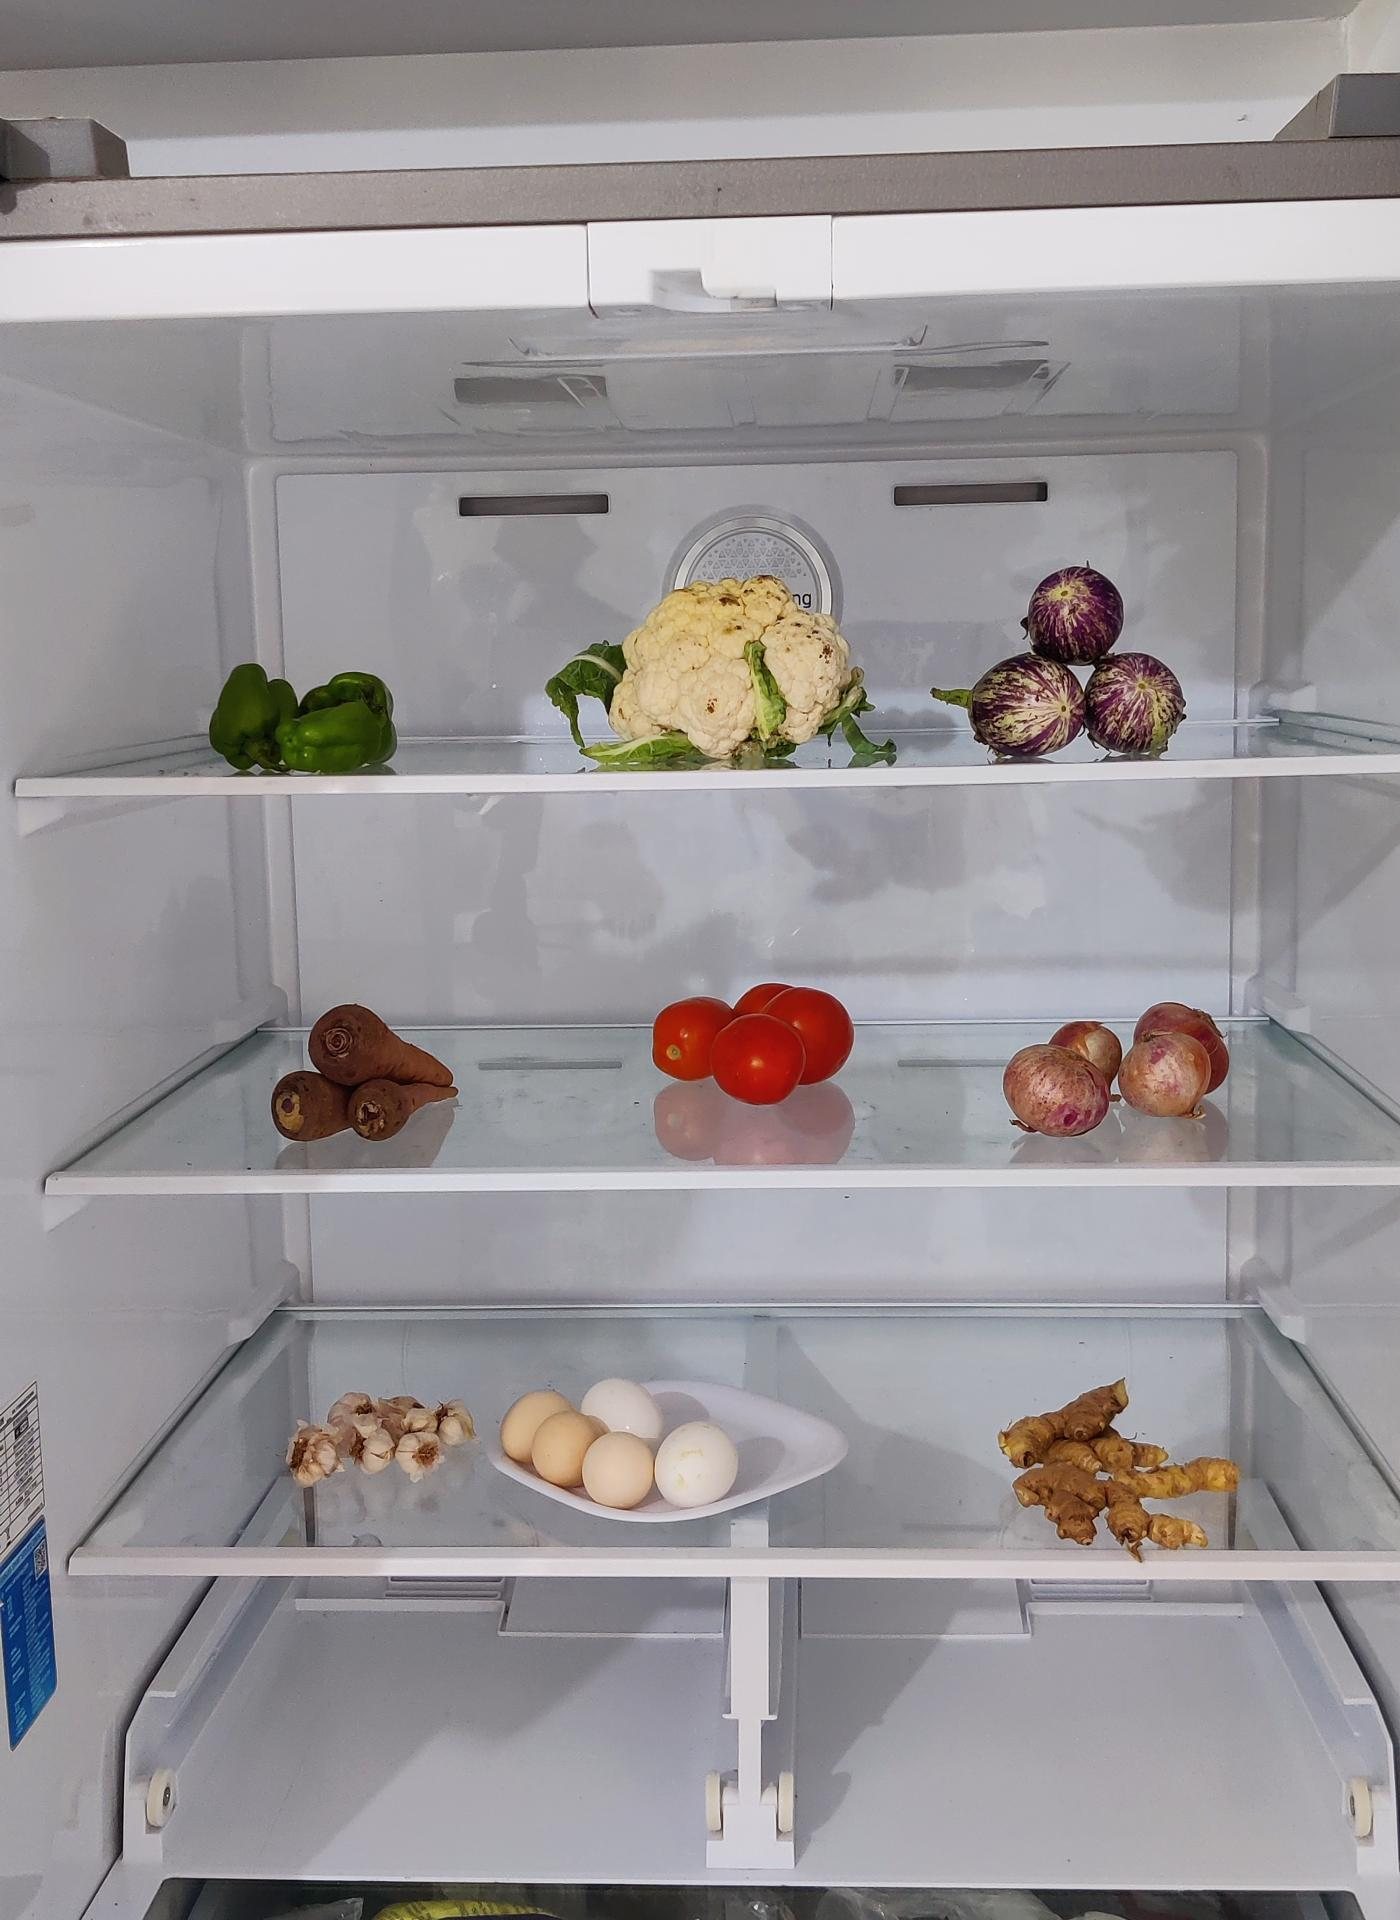brinjal: (953, 563, 1181, 751)
capsicum: (203, 654, 398, 772)
carrots: (270, 999, 458, 1143)
cauliflower: (608, 574, 872, 759)
egg: (502, 1379, 741, 1516)
garlic: (291, 1380, 459, 1500)
ginger: (1003, 1382, 1246, 1550)
onion: (1000, 1000, 1230, 1136)
tomato: (656, 979, 860, 1103)
